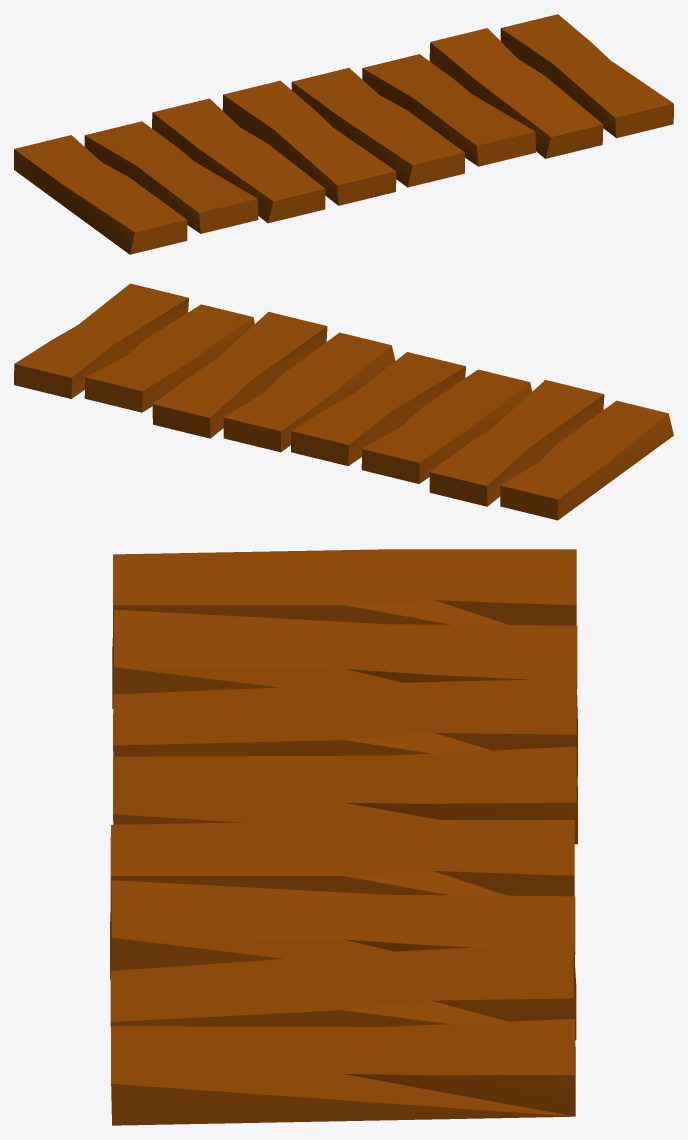
File: Bridge_Timber_Small_01.fbx
3 renders of one model, top to bottom at view 1: azimuth 30°, elevation 25°; view 2: azimuth 150°, elevation 25°; view 3: azimuth 270°, elevation 25°, orthographic. The views are drawn at different scales.
Visible parts, largest first — view 1: Bridge_Timber_Small_01; view 2: Bridge_Timber_Small_01; view 3: Bridge_Timber_Small_01.
Part boxes in pixels (bbox=[...]): Bridge_Timber_Small_01: bbox=[14, 14, 673, 254]; Bridge_Timber_Small_01: bbox=[14, 283, 673, 520]; Bridge_Timber_Small_01: bbox=[110, 549, 577, 1125].
Bounding box in the file's own units: 152 × 8.76 × 56.78.
